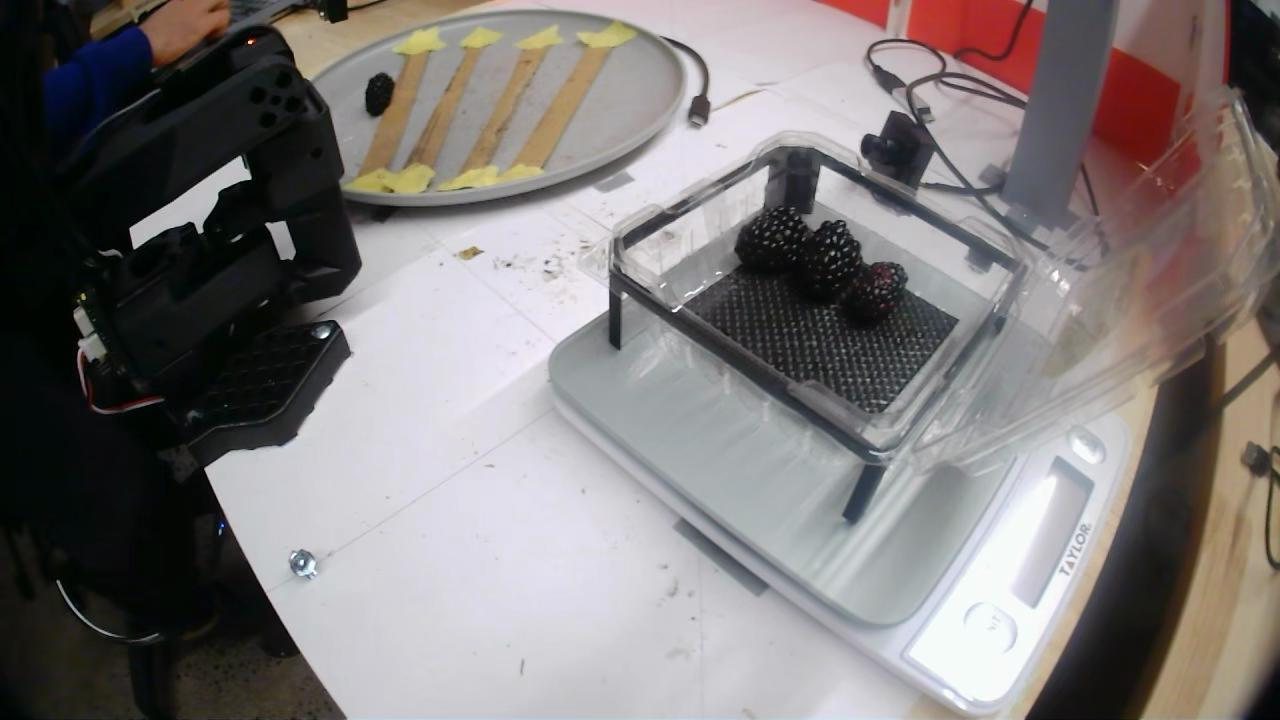berry: (735, 205, 808, 274), (801, 220, 863, 299), (839, 262, 907, 327), (365, 72, 394, 117)
